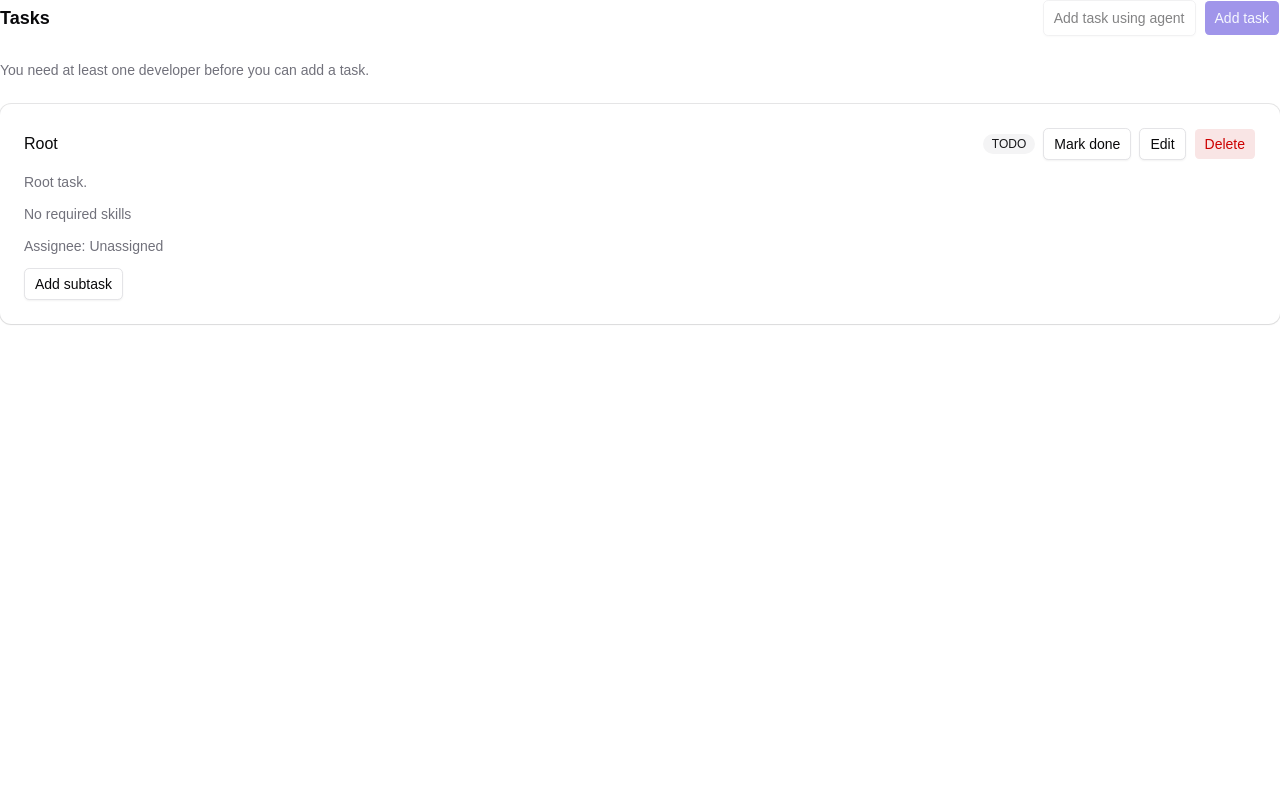
TasksPage › shows the authoritative IN_USE explanation when delete is rejected
What coordinates should you click on to do the following:
click the button "Delete"
I would click on:
 (1225, 144)
Its box is [1194, 128, 1256, 160].
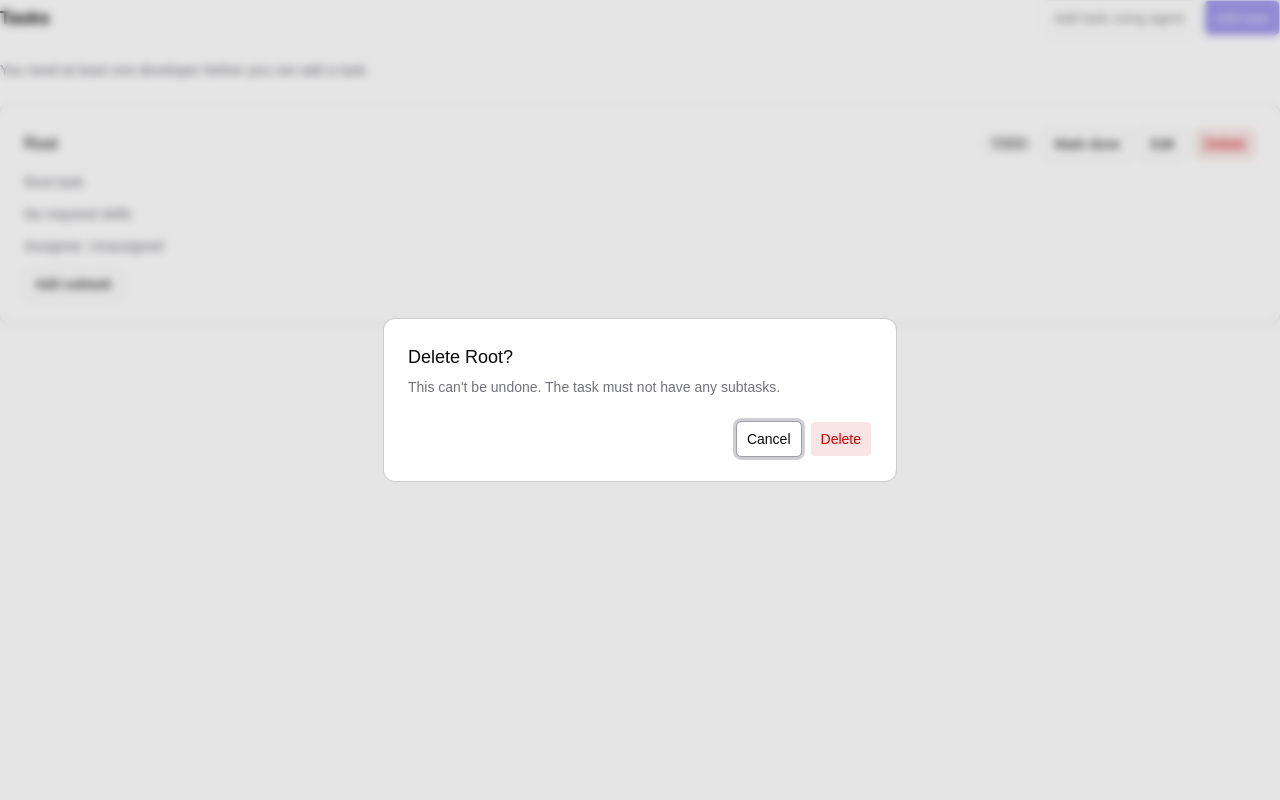
What coordinates should you click on to do the following:
click the button "Delete"
I would click on:
 (841, 439)
Its box is [810, 421, 872, 457].
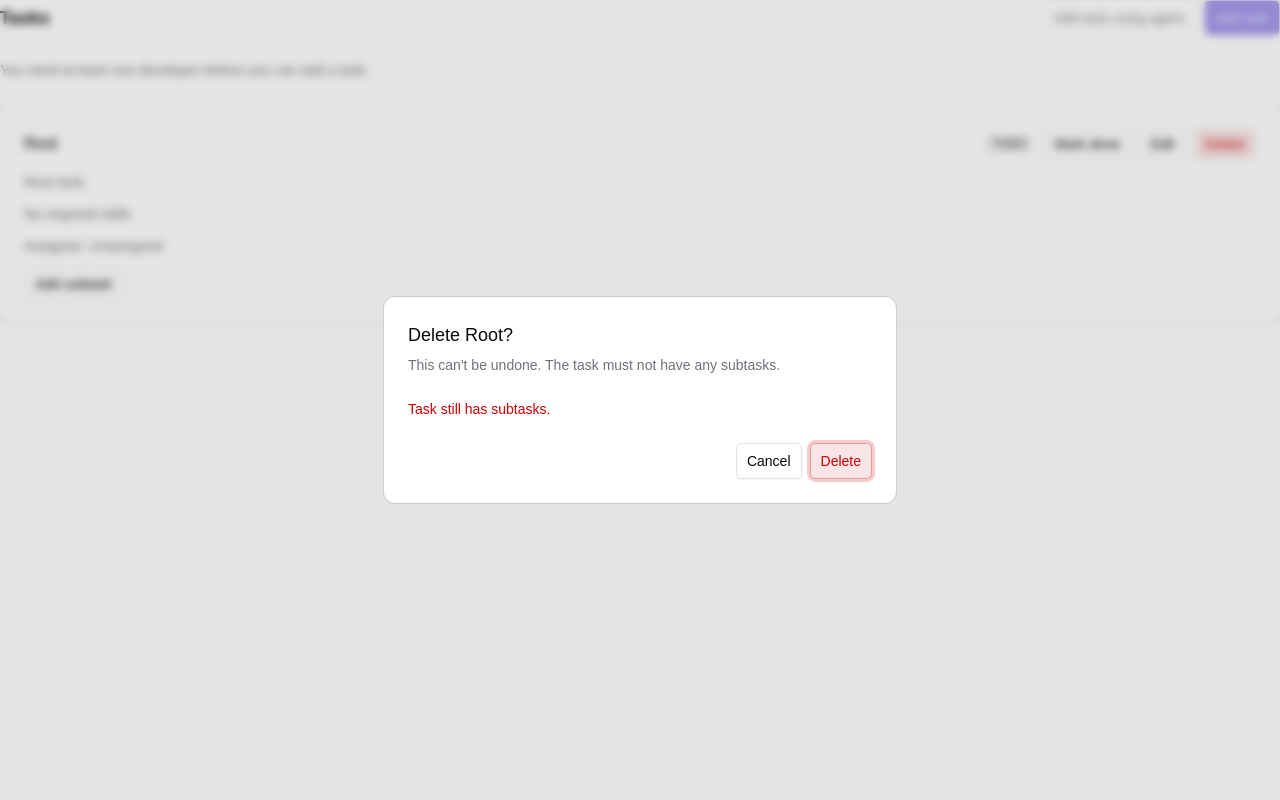
Now the text "Task still has subtasks." is shown, box [408, 401, 550, 417]
